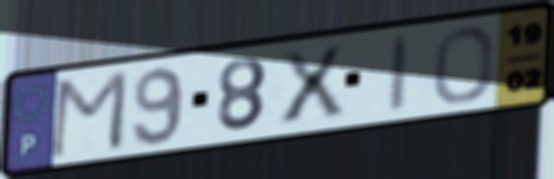8: (214, 55, 270, 134)
9: (129, 64, 187, 147)
I: (386, 30, 416, 116)
M: (45, 67, 131, 161)
O: (431, 24, 497, 107)
X: (277, 42, 349, 128)
